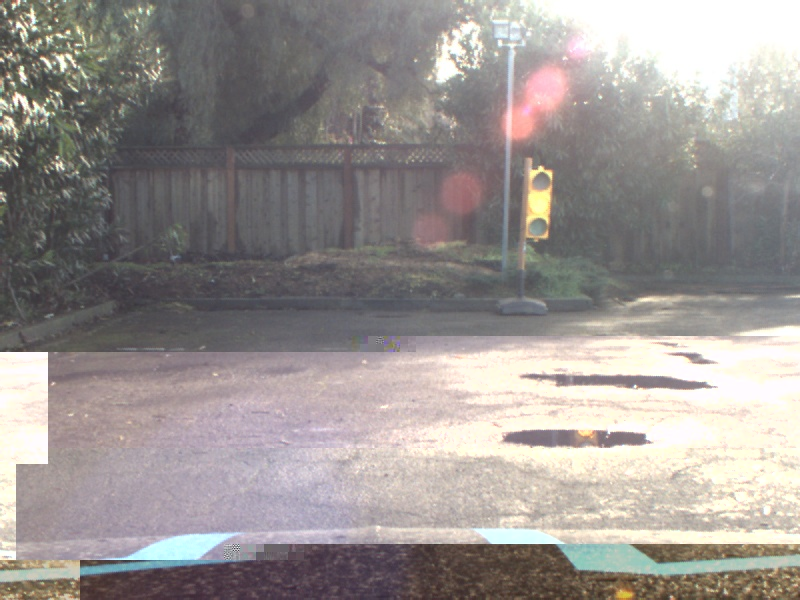Yellow: (528, 169, 551, 238)
